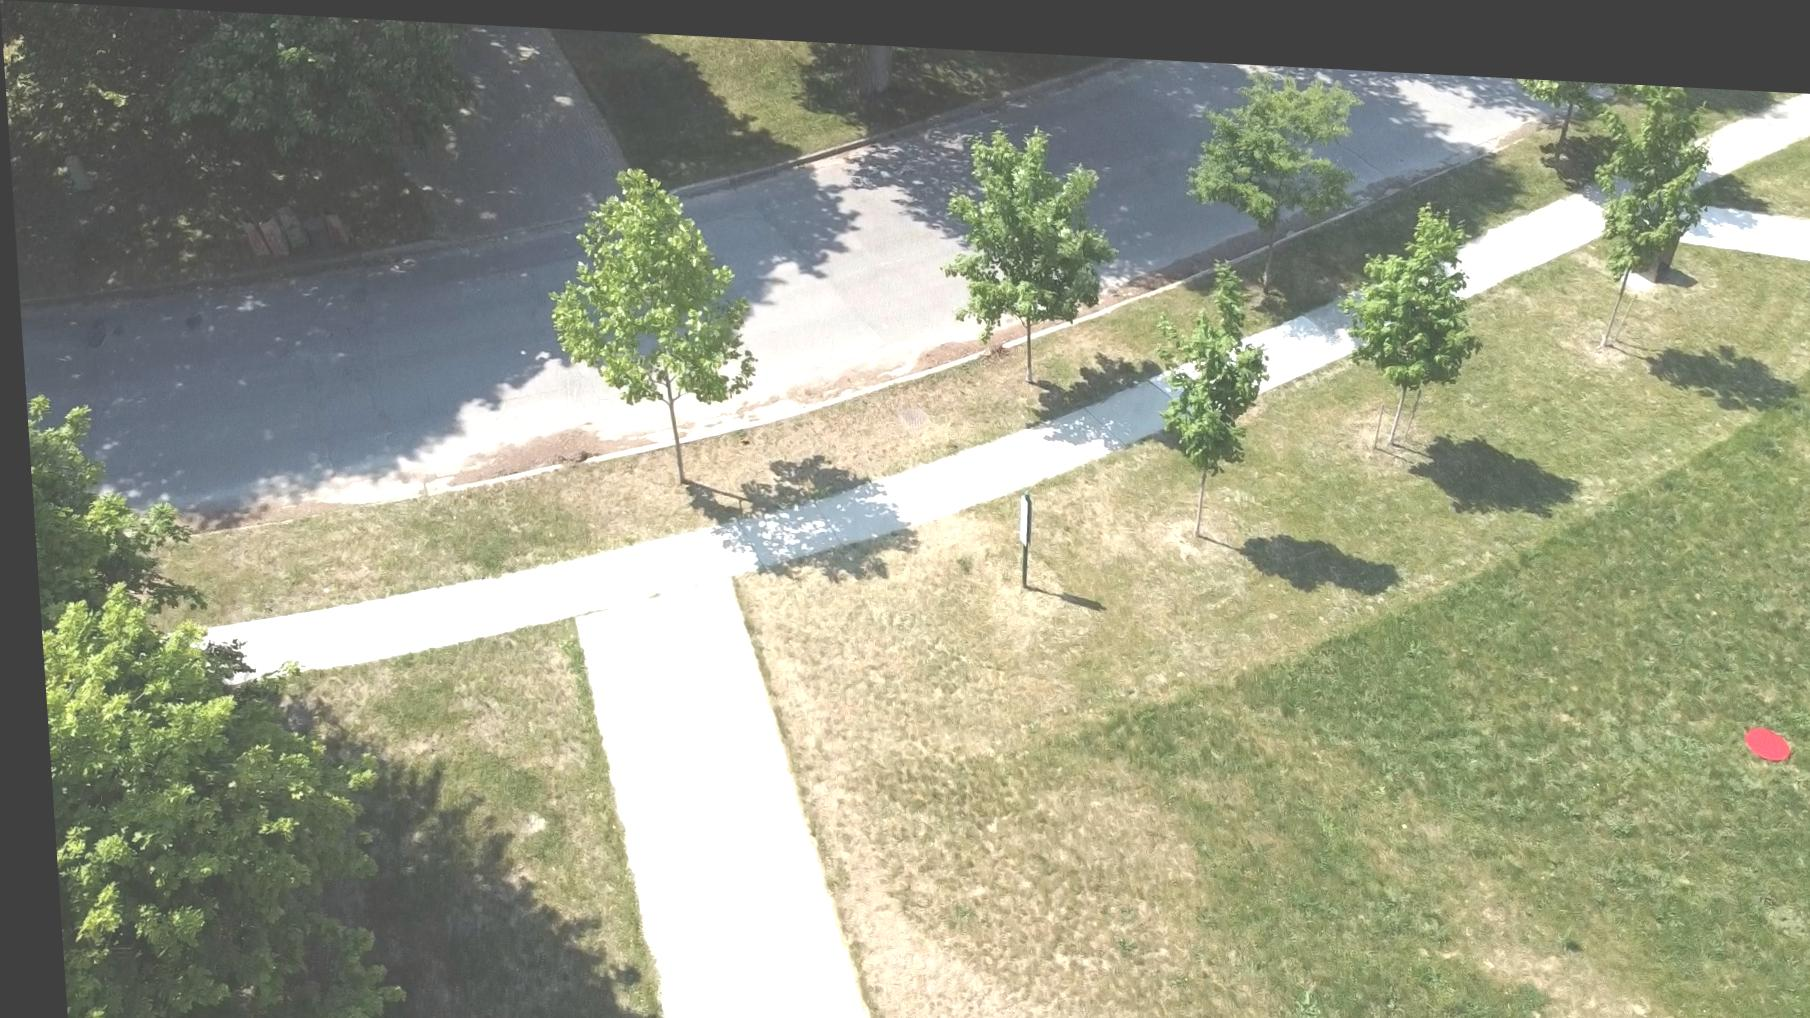Red: (1734, 706, 1783, 745)
